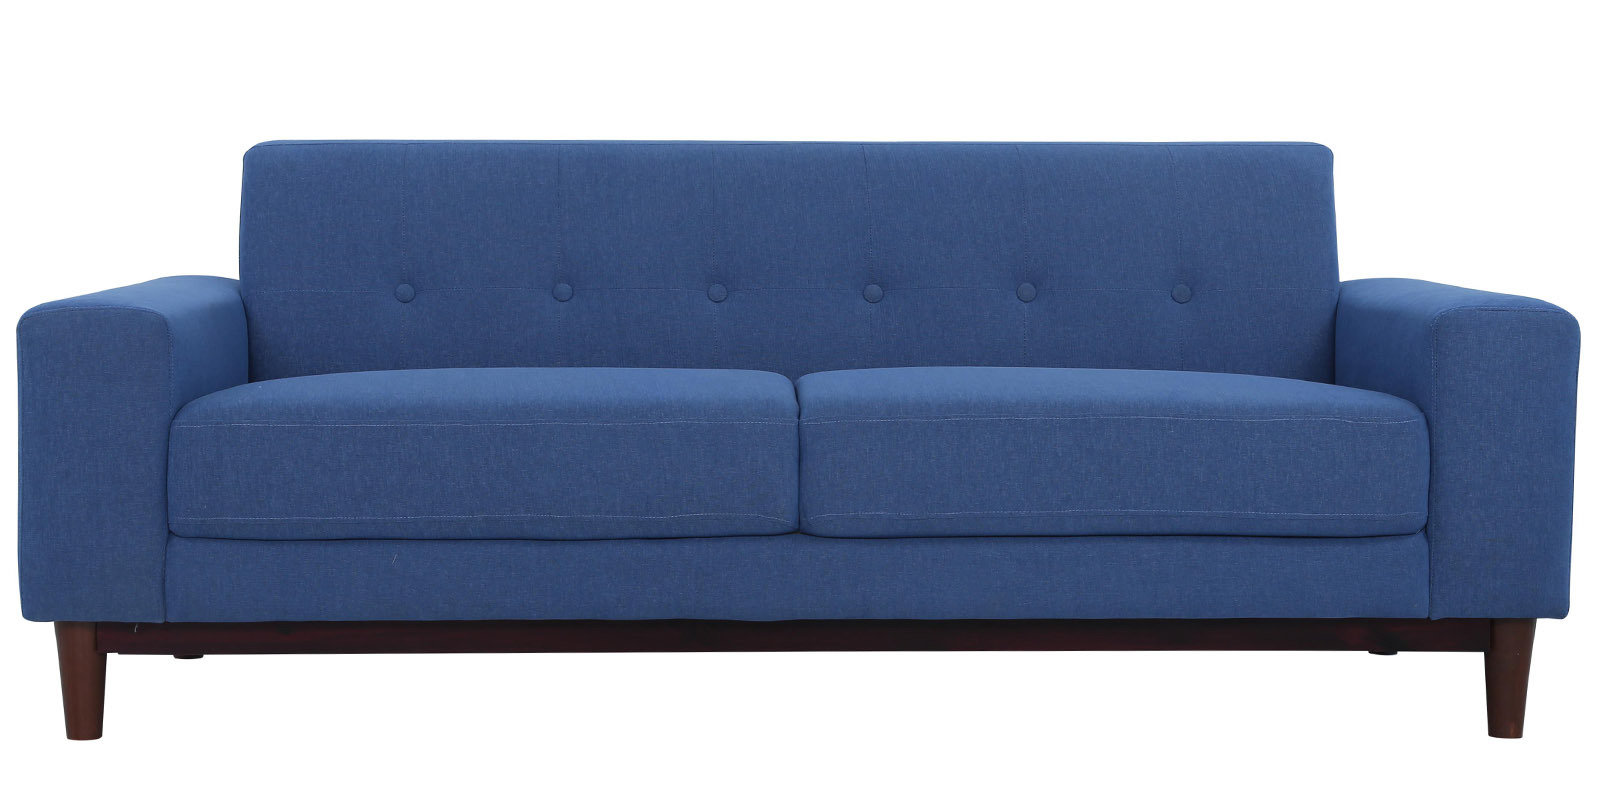Cordoba Three Seater Sofa in Denim Blue Colour by CasaCraft: (12, 131, 1585, 689)
